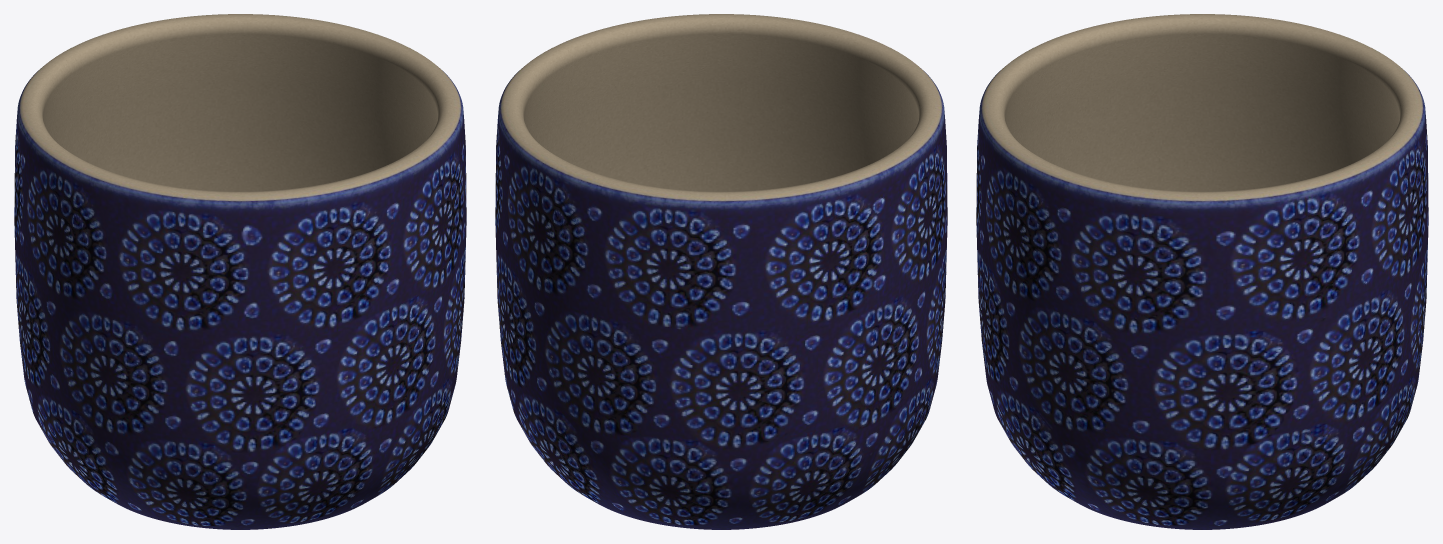
Rendered from planter_B075HWX41H.glb.
3 renders of one model, left to right at view 1: azimuth 30°, elevation 25°; view 2: azimuth 150°, elevation 25°; view 3: azimuth 270°, elevation 25°, orthographic.
Visible parts, largest first — view 1: RootNode; view 2: RootNode; view 3: RootNode.
Part boxes in pixels (<box>): RootNode: <box>14,14,466,529</box>; RootNode: <box>495,14,947,529</box>; RootNode: <box>976,14,1428,529</box>.
Bounding box in the file's own units: 0.1655 × 0.1489 × 0.1655.
Materials: 1 (1 with a texture image).
